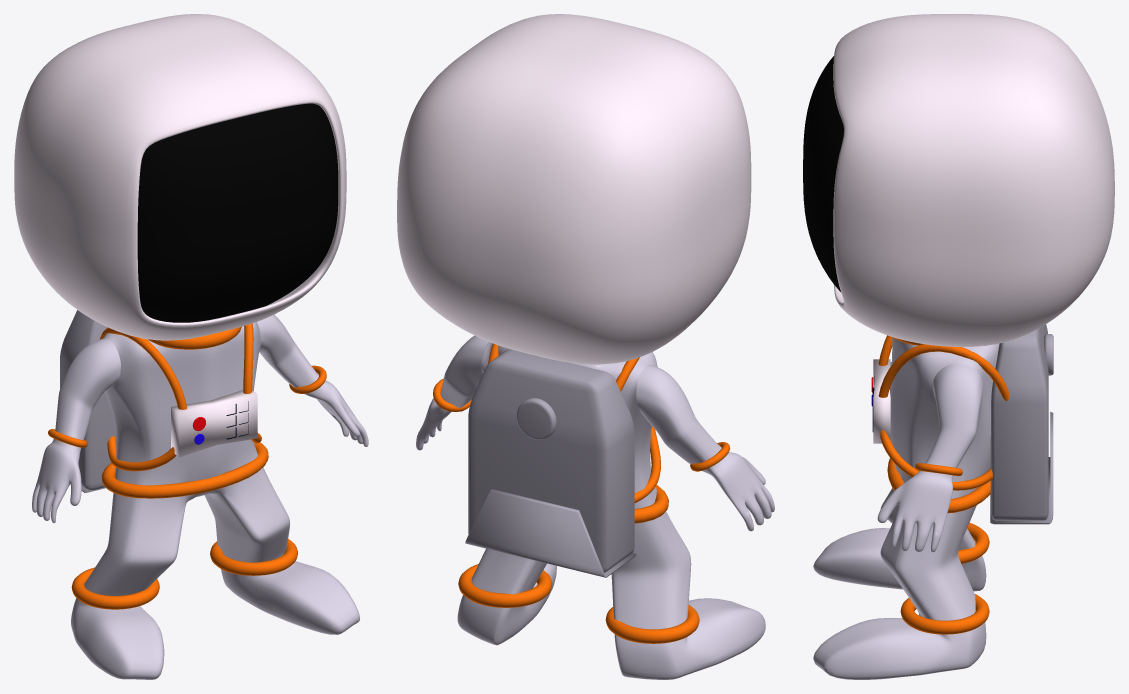
File: astranaut.glb
3 views of the same model, side by side, from view 1: azimuth 30°, elevation 25°; view 2: azimuth 150°, elevation 25°; view 3: azimuth 270°, elevation 25° (orthographic). The views are drawn at different scales.
Visible parts, largest first — view 1: head, body, helmet, front, backpack, foot, head twist.001, wire, head twist, WAIST; view 2: head, body, backpack, foot, Circle, wire, WAIST, head twist.001; view 3: head, body, backpack, helmet, wire, foot, front, head twist.001.
Boxes of the visible parts, x1,y1,x2,y2 form: head: (14, 14, 346, 340); body: (32, 314, 368, 679); helmet: (137, 103, 338, 322); front: (171, 390, 257, 457); backpack: (60, 310, 115, 492); foot: (71, 539, 297, 609); head twist.001: (101, 442, 268, 498); wire: (100, 323, 261, 471); head twist: (148, 326, 241, 349); WAIST: (48, 365, 326, 447); head: (397, 14, 751, 364); body: (416, 335, 774, 679); backpack: (465, 349, 636, 577); foot: (458, 564, 699, 643); Circle: (516, 398, 556, 439); wire: (488, 343, 660, 502); WAIST: (433, 378, 730, 471); head twist.001: (634, 484, 668, 523); head: (833, 14, 1114, 346); body: (813, 337, 999, 679); backpack: (990, 324, 1053, 524); helmet: (803, 56, 843, 291); wire: (878, 335, 1009, 490); foot: (900, 522, 989, 634); front: (873, 359, 890, 443); head twist.001: (887, 458, 990, 513).
Bounding box in the file's own units: 2.44 × 4.13 × 2.01.
1 material, 1 textured.
